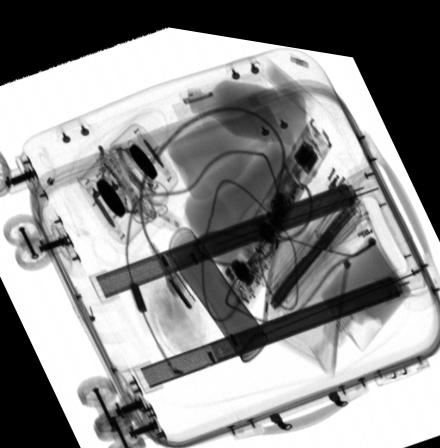Baton: (220, 105, 331, 291)
